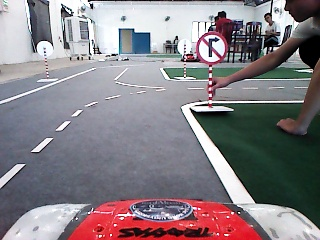ban: (194, 30, 229, 65)
